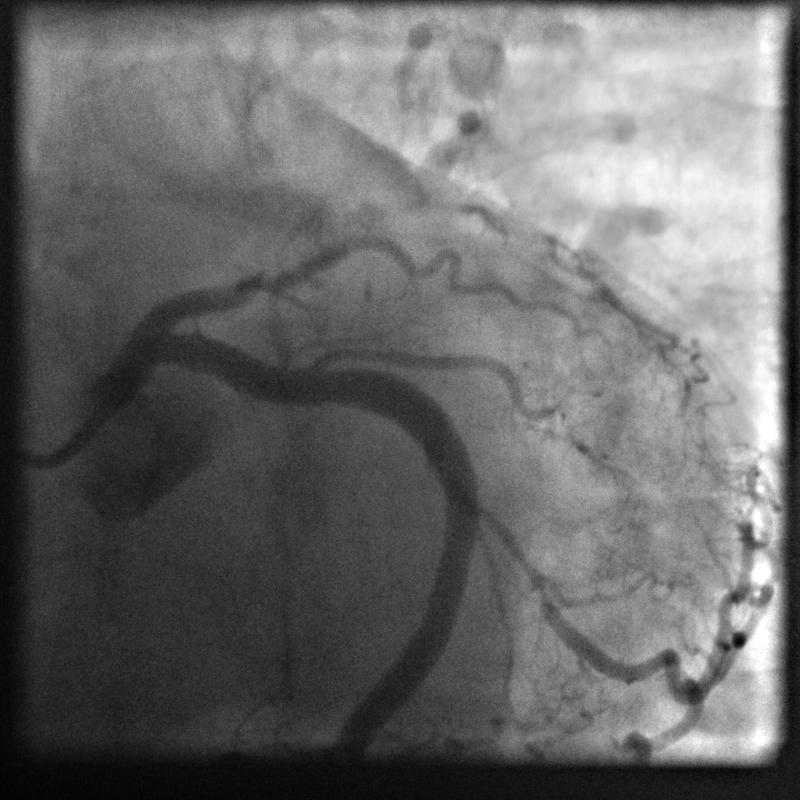Stenosis: (464, 487, 564, 609)
